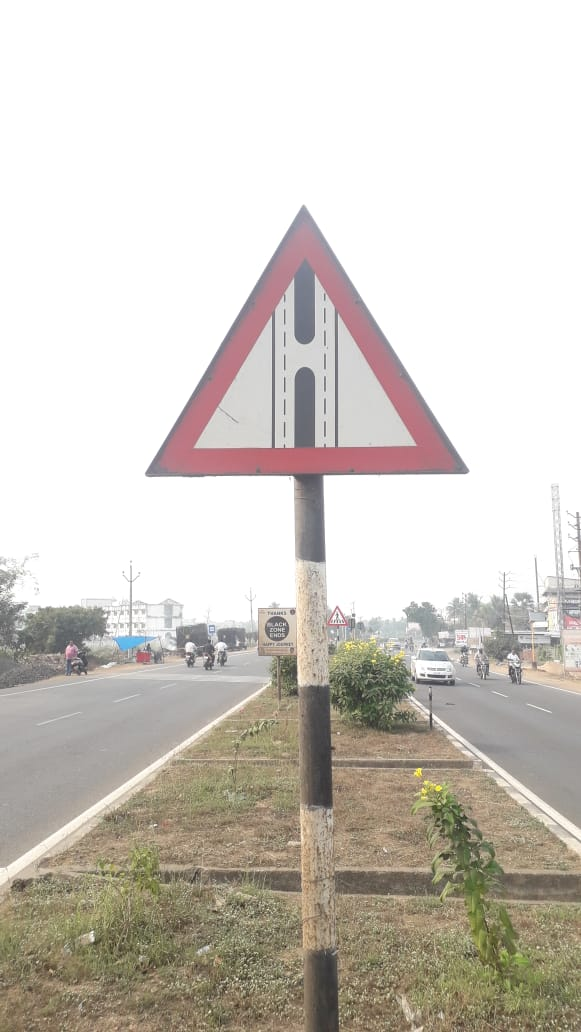highway go straight: (117, 188, 511, 502)
